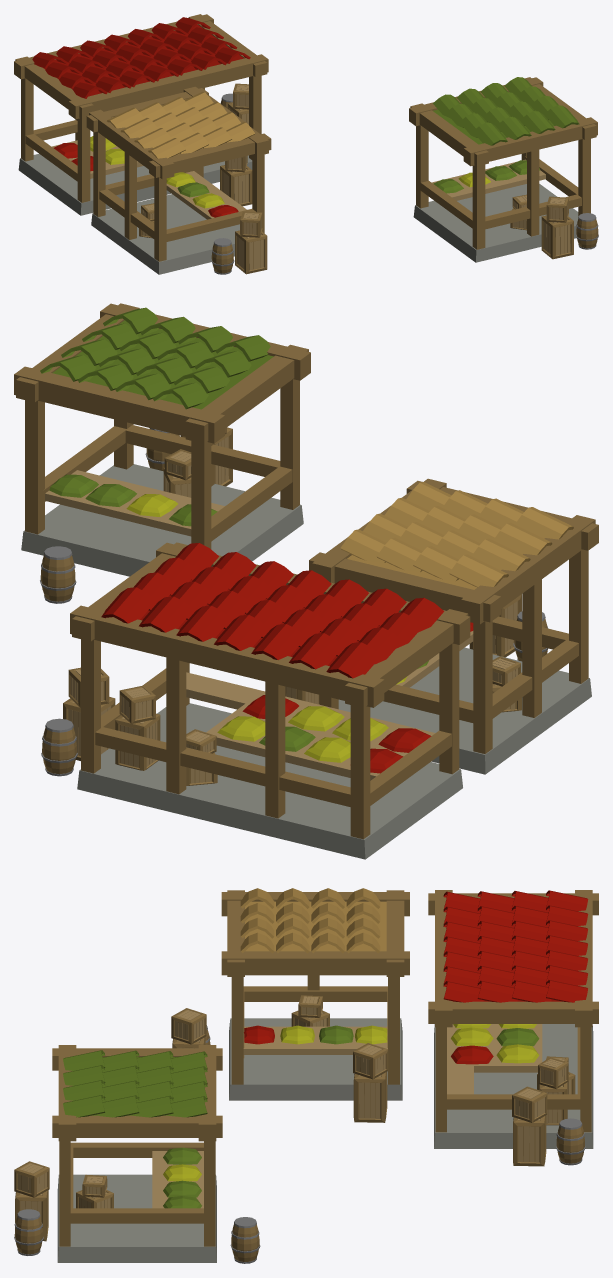
Rendered from Market_SecondAge_Level2.glb.
3 views of the same model, one above another, from view 1: azimuth 30°, elevation 25°; view 2: azimuth 150°, elevation 25°; view 3: azimuth 270°, elevation 25° (orthographic). The views are drawn at different scales.
Parts seen in each view (by area): view 1: Market_SecondAge_Level2; view 2: Market_SecondAge_Level2; view 3: Market_SecondAge_Level2.
Boxes of the visible parts, x1,y1,x2,y2 form: Market_SecondAge_Level2: (14, 14, 598, 274); Market_SecondAge_Level2: (14, 303, 598, 859); Market_SecondAge_Level2: (14, 888, 598, 1263).
Bounding box in the file's own units: 1.92 × 0.657 × 2.01.
Materials: 1 (1 with a texture image).
